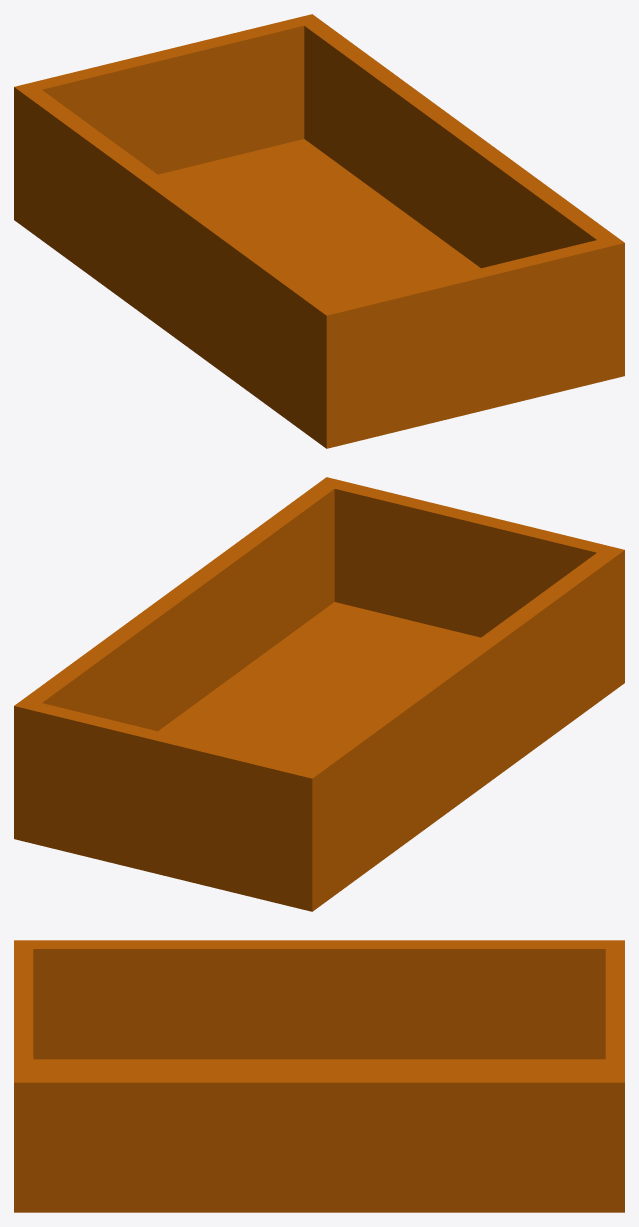
File: cart.fbx
3 views of the same model, one above another, from view 1: azimuth 30°, elevation 25°; view 2: azimuth 150°, elevation 25°; view 3: azimuth 270°, elevation 25° (orthographic). The views are drawn at different scales.
Visible parts, largest first — view 1: Cube.006; view 2: Cube.006; view 3: Cube.006.
Part boxes in pixels (x1,y1,x2,y2): Cube.006: (14,14,624,448); Cube.006: (14,477,624,911); Cube.006: (14,940,624,1212).
Size of the model in its own units: 469 by 200 by 851.
